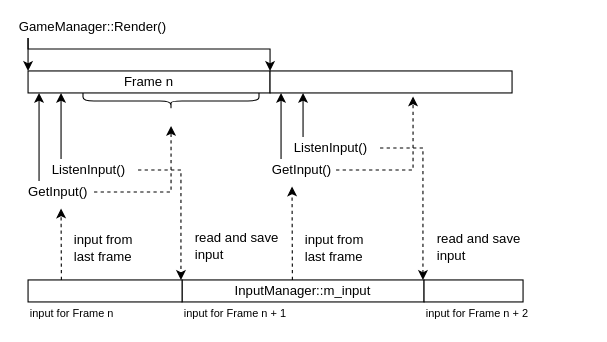
The diagram is 607 pixels wide and 342 high, and some of its shapes have lost their labels. The box of each missing label's shape, as (x1, y1, x2, y2) in pixels:
calculate and display frame: (82, 92, 259, 109)
Frame n + 1: (269, 70, 512, 93)
